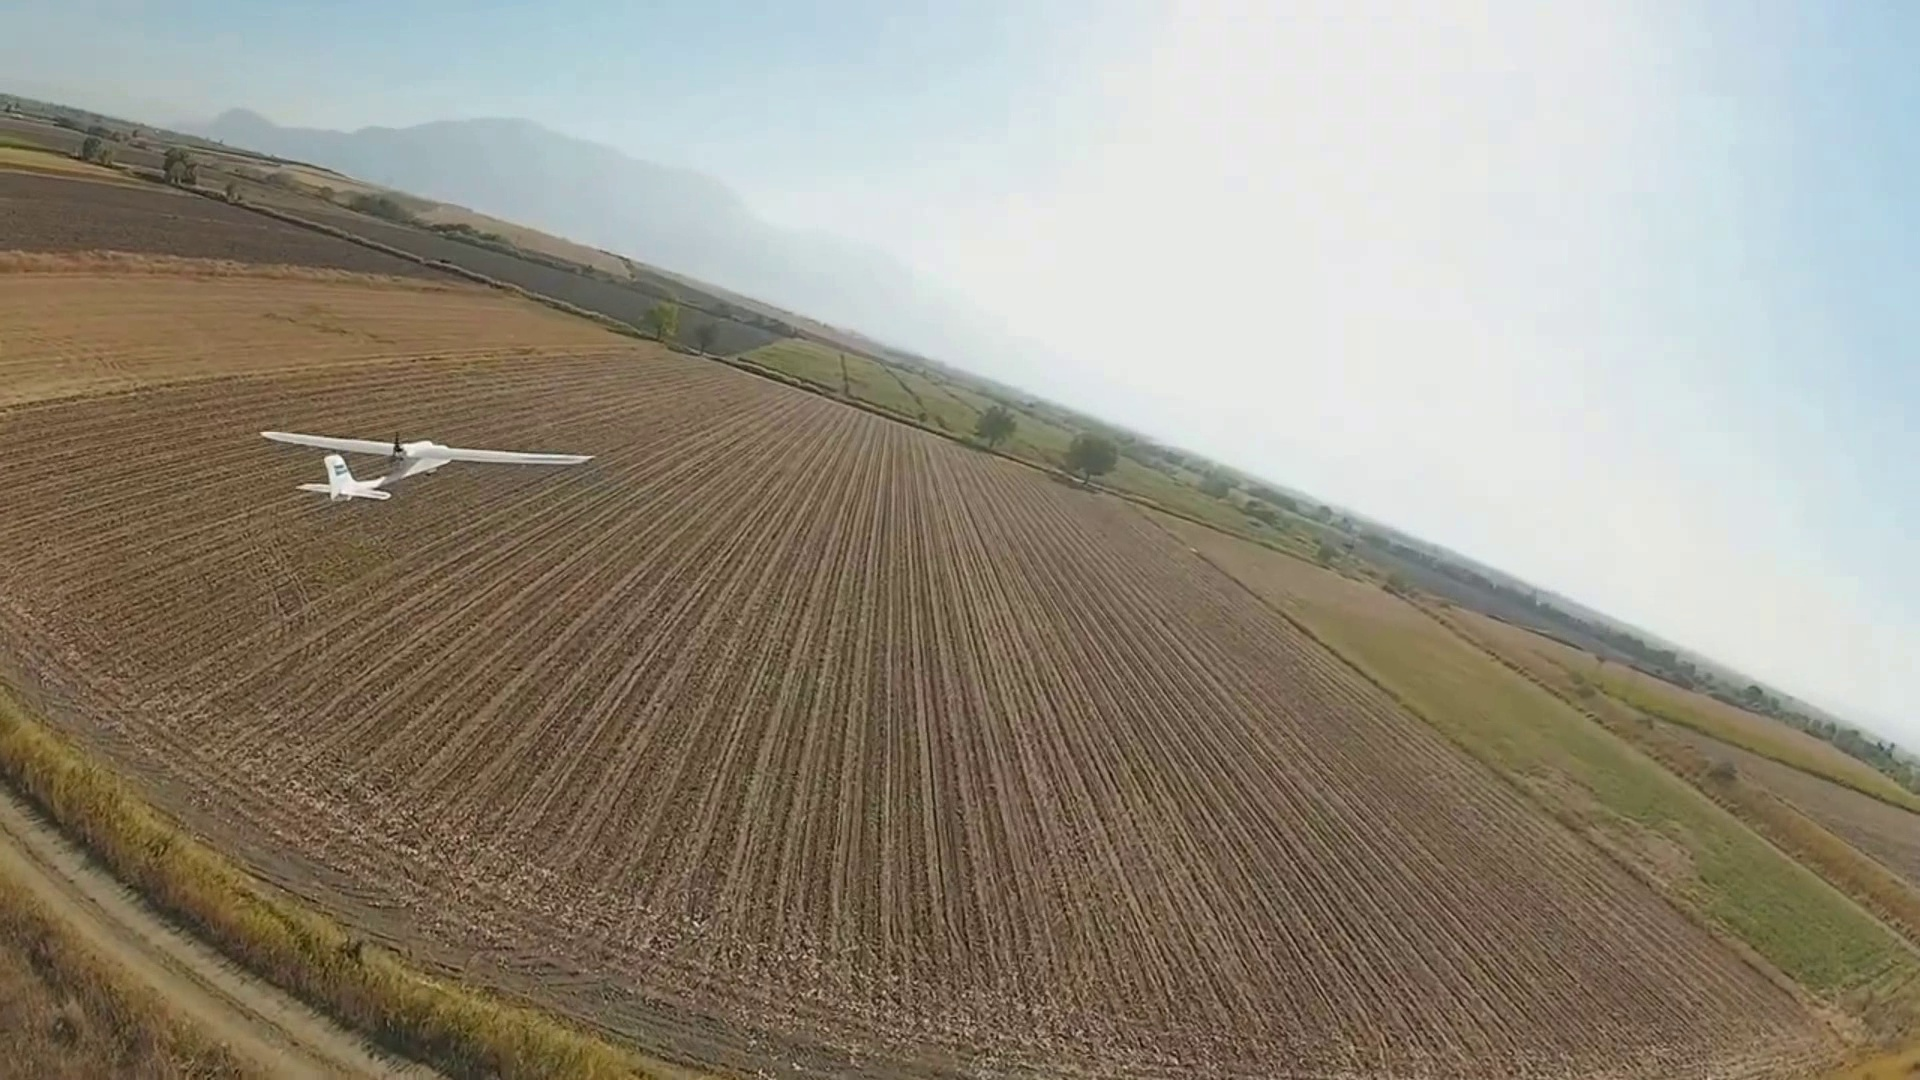airplane: (260, 427, 593, 498)
